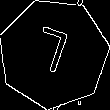L_S: (31, 25, 77, 82)
